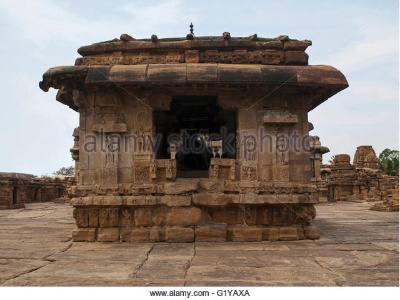mandapa: (37, 41, 332, 200)
